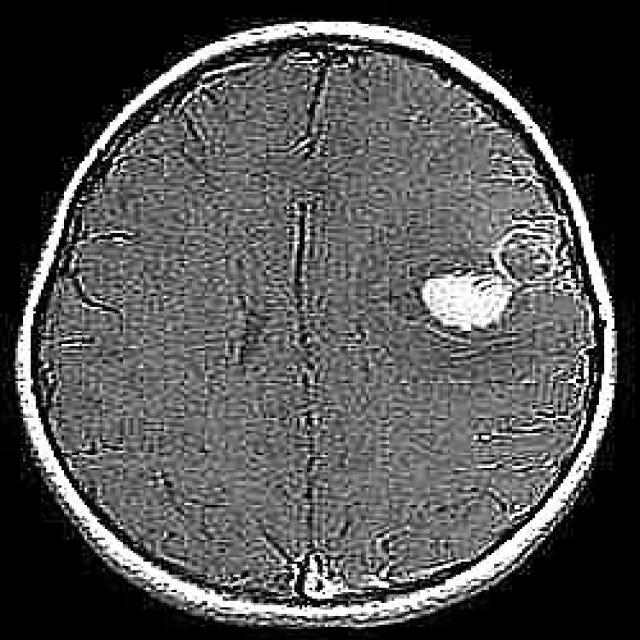Tumor-Cell: (410, 244, 506, 339)
